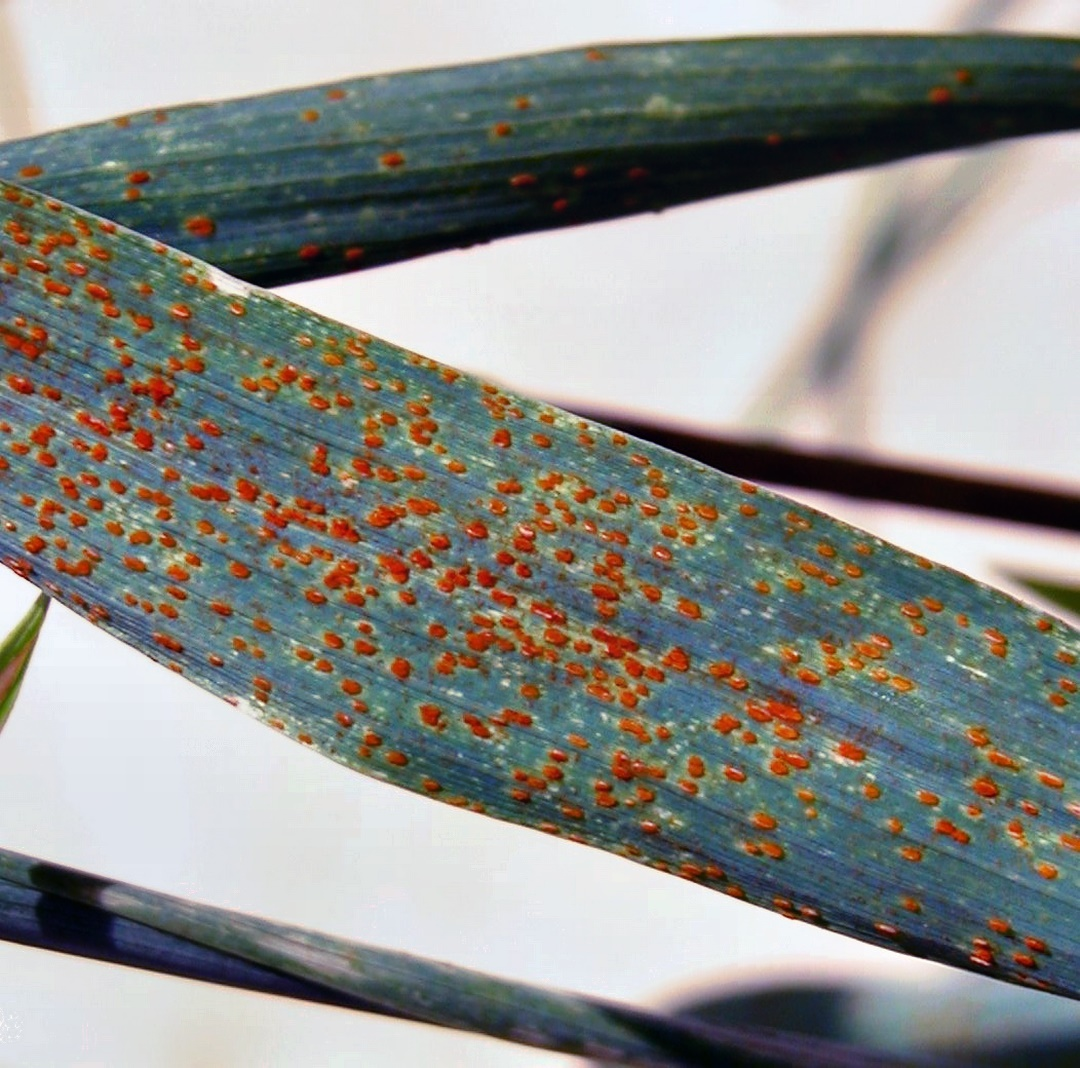Leaf Rust: (15, 254, 1031, 960)
